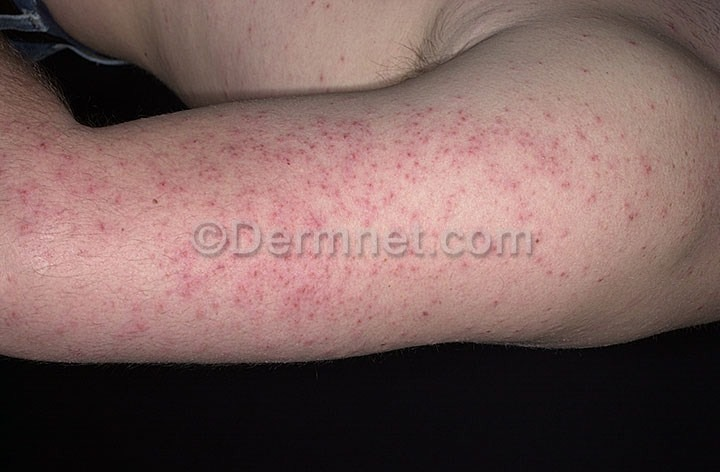Eczema: (3, 60, 657, 357)
